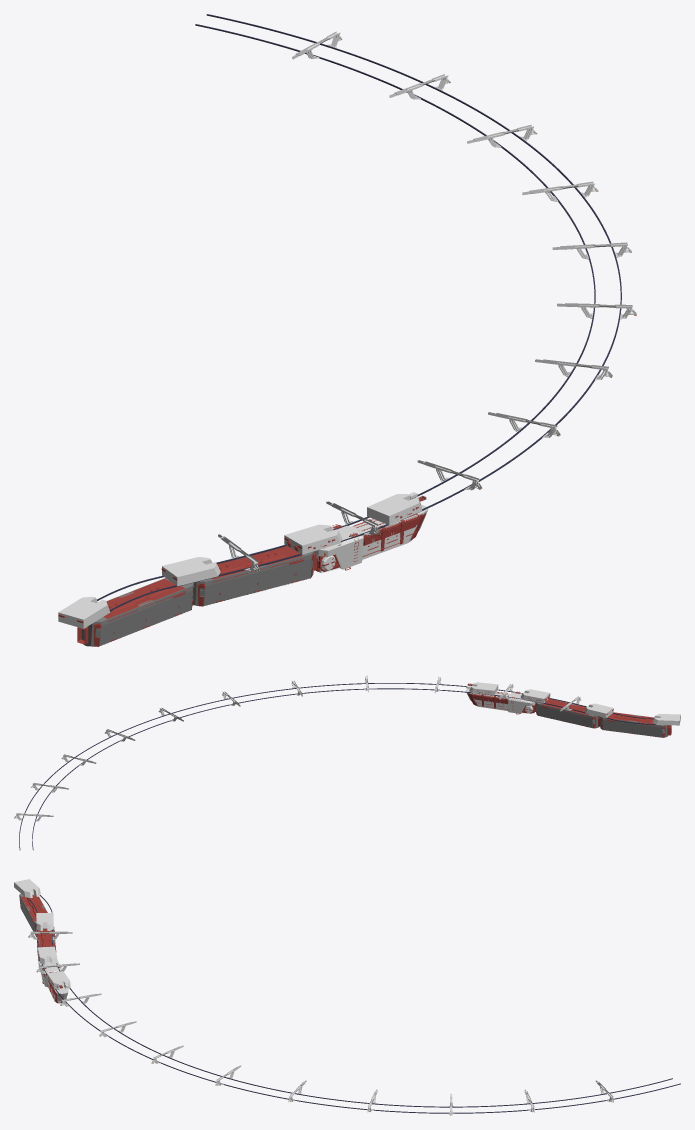
The model's file is train.glb.
3 views of the same model, one above another, from view 1: azimuth 30°, elevation 25°; view 2: azimuth 150°, elevation 25°; view 3: azimuth 270°, elevation 25° (orthographic). The views are drawn at different scales.
Parts seen in each view (by area): view 1: Scifitrain_passenger-colonly.004, Scifitrain_passenger-colonly.005, Scifitrain_locomotive-colonly.001, Scifitrain_passenger.004, Scifitrain_passenger.003, Scifitrain_locomotive.001, scifitrain_wheels-colonly.009, scifitrain_wheels-colonly.012, scifitrain_wheels-colonly.013, scifitrain_wheels-colonly.011, hall_circ1125_genericwalls_ceilingrailing.030; view 2: Scifitrain_passenger-colonly.005, Scifitrain_passenger-colonly.004, Scifitrain_locomotive-colonly.001, Scifitrain_locomotive.001, Scifitrain_passenger.004, Scifitrain_passenger.003, scifitrain_wheels-colonly.009, scifitrain_wheels-colonly.013, scifitrain_wheels-colonly.012, scifitrain_wheels-colonly.011; view 3: Scifitrain_locomotive-colonly.001, Scifitrain_passenger.004.
Boxes of the visible parts, x1,y1,x2,y2 form: Scifitrain_passenger-colonly.004: (192, 549, 314, 605); Scifitrain_passenger-colonly.005: (81, 578, 193, 646); Scifitrain_locomotive-colonly.001: (315, 505, 427, 573); Scifitrain_passenger.004: (90, 578, 194, 646); Scifitrain_passenger.003: (196, 546, 314, 606); Scifitrain_locomotive.001: (315, 513, 425, 571); scifitrain_wheels-colonly.009: (367, 492, 426, 525); scifitrain_wheels-colonly.012: (162, 557, 220, 586); scifitrain_wheels-colonly.013: (284, 524, 342, 554); scifitrain_wheels-colonly.011: (58, 596, 110, 628); hall_circ1125_genericwalls_ceilingrailing.030: (195, 14, 342, 59); Scifitrain_passenger-colonly.005: (600, 712, 668, 737); Scifitrain_passenger-colonly.004: (535, 699, 599, 728); Scifitrain_locomotive-colonly.001: (465, 688, 535, 713); Scifitrain_locomotive.001: (467, 691, 534, 714); Scifitrain_passenger.004: (600, 712, 665, 737); Scifitrain_passenger.003: (536, 698, 595, 728); scifitrain_wheels-colonly.009: (466, 682, 498, 695); scifitrain_wheels-colonly.013: (520, 689, 550, 703); scifitrain_wheels-colonly.012: (584, 703, 613, 717); scifitrain_wheels-colonly.011: (652, 714, 680, 725); Scifitrain_locomotive-colonly.001: (38, 960, 68, 1003); Scifitrain_passenger.004: (20, 895, 47, 928).
Size of the model in its own units: 117 by 5.36 by 142.
